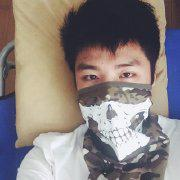OK: (75, 60, 144, 129)
